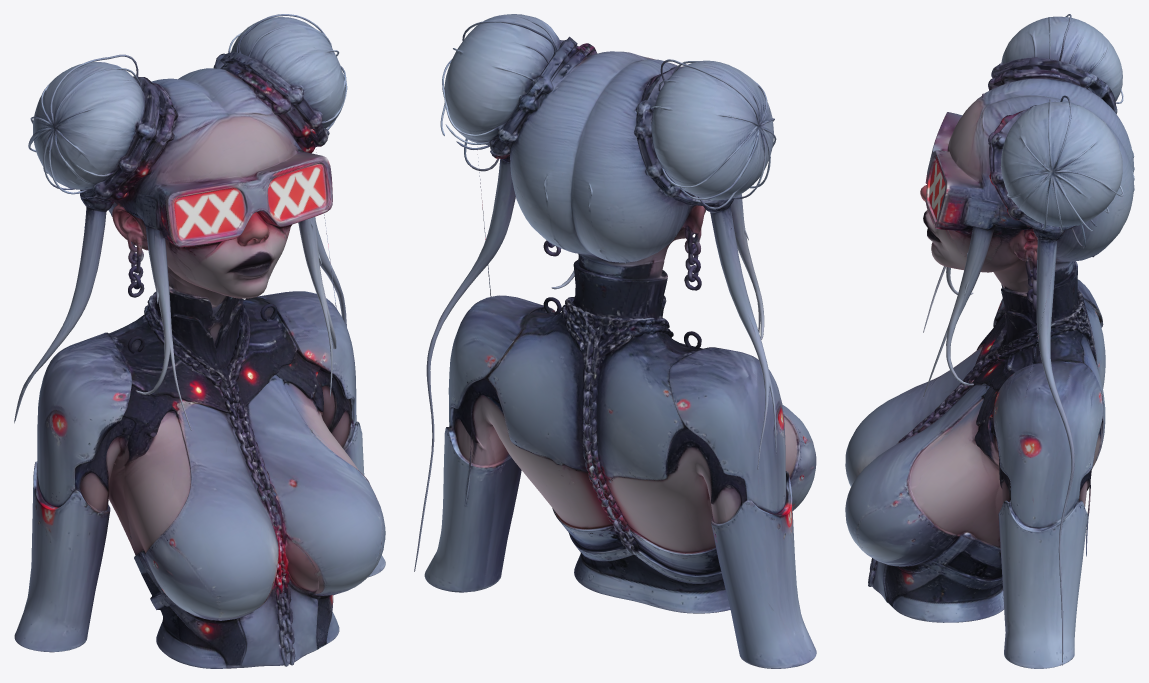
File: girl-22.glb
The picture shows the model from 3 angles, left to right: view 1: azimuth 30°, elevation 25°; view 2: azimuth 150°, elevation 25°; view 3: azimuth 270°, elevation 25°; orthographic projection. The views are drawn at different scales.
Visible parts, largest first — view 1: material; view 2: material; view 3: material.
Boxes of the visible parts, x1=… form: material: x1=14, y1=14, x2=385, y2=668; material: x1=414, y1=14, x2=816, y2=668; material: x1=845, y1=14, x2=1134, y2=668.
Bounding box in the file's own units: 0.6729 × 0.9745 × 0.4876.
1 material, 1 textured.
